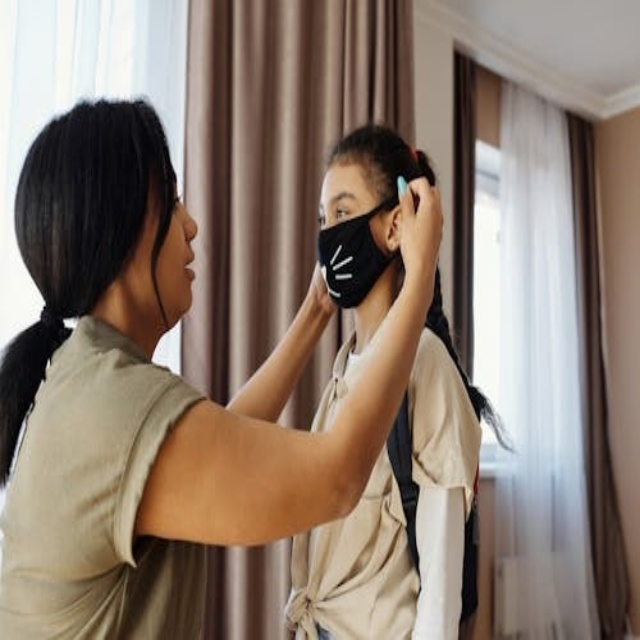Mascara: (319, 196, 404, 308)
Sin_gafas: (155, 172, 191, 220), (315, 188, 355, 224)
Sin_guantes: (393, 171, 444, 305)
Sin_mascara: (155, 247, 205, 307)
